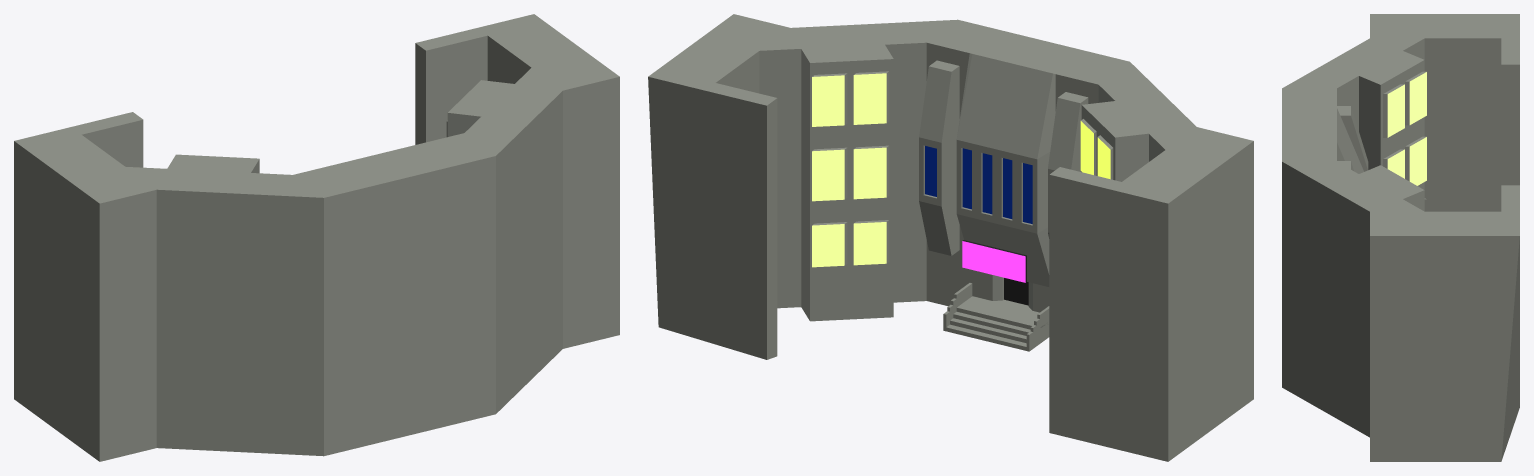
The model's file is blud1.fbx.
3 renders of one model, left to right at view 1: azimuth 30°, elevation 25°; view 2: azimuth 150°, elevation 25°; view 3: azimuth 270°, elevation 25°, orthographic. The views are drawn at different scales.
Visible parts, largest first — view 1: Cube.048; view 2: Cube.048; view 3: Cube.048.
Boxes of the visible parts, x1,y1,x2,y2 form: Cube.048: (14, 14, 619, 461); Cube.048: (648, 14, 1253, 461); Cube.048: (1282, 14, 1519, 461).
Size of the model in its own units: 1916 by 909 by 867.
